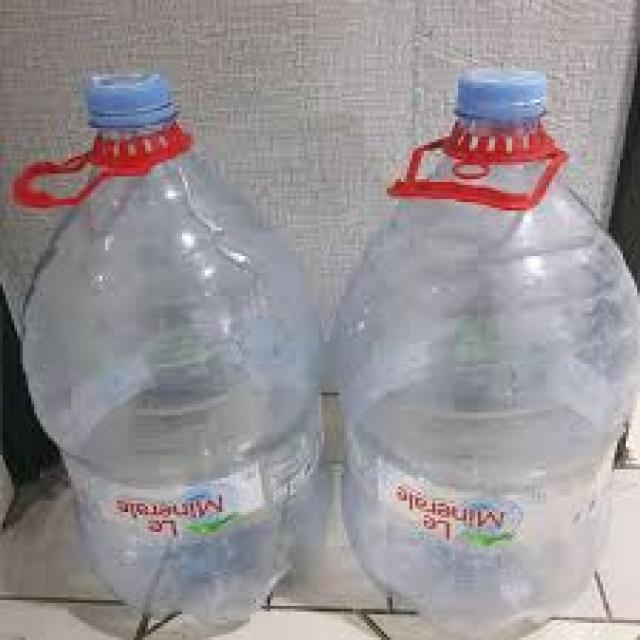Galon: (327, 63, 637, 637), (9, 69, 324, 632)
